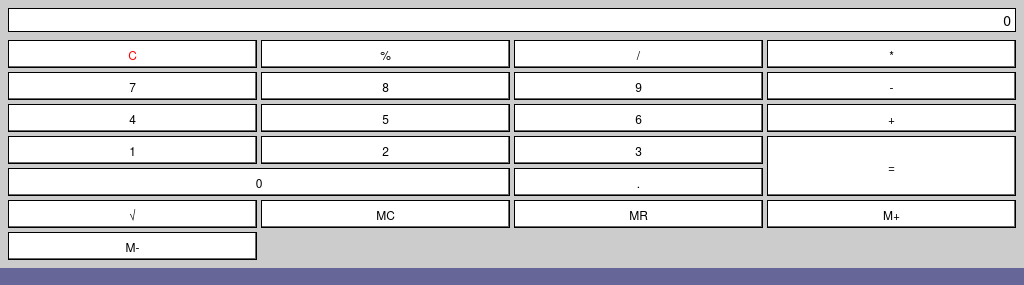
Test: Calculator.vue › updates display when number buttons are clicked
Click the button "1" at (132, 150), box [8,136,257,164]
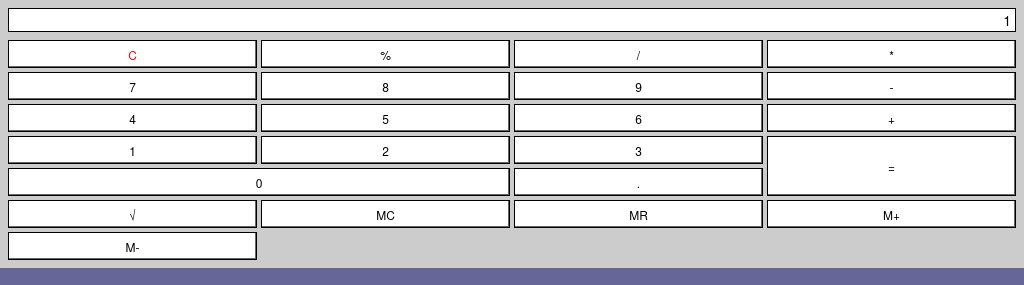
Click the button "2" at (386, 150), box [261,136,510,164]
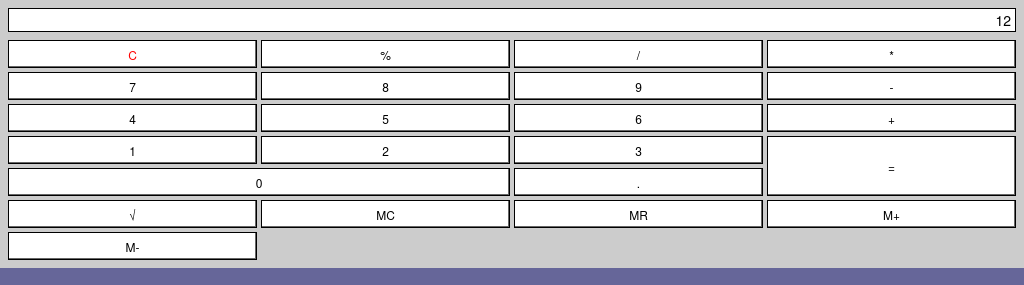
Check: the text with class "calculator__display" reads "12", box [995,10,1011,30]
